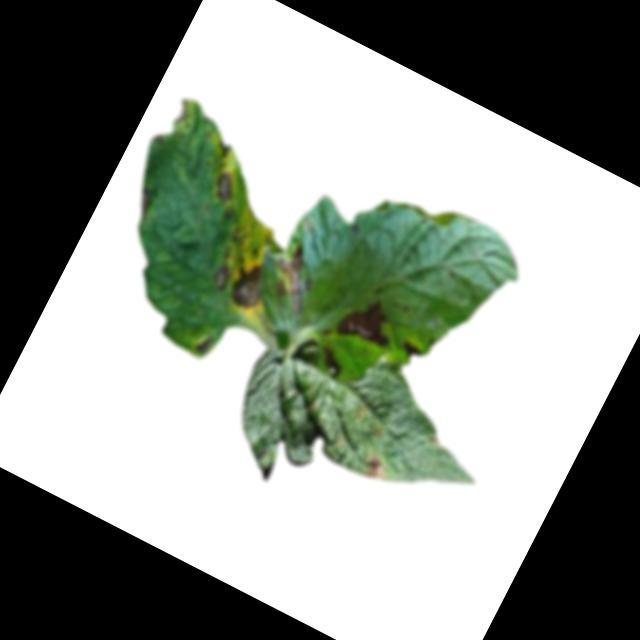Early_blight: (259, 243, 325, 318), (332, 290, 402, 356), (220, 254, 274, 315), (203, 256, 237, 295), (207, 168, 240, 205), (313, 345, 347, 378), (360, 449, 392, 484), (129, 186, 159, 220), (165, 98, 193, 134), (189, 330, 216, 359), (397, 340, 424, 366), (210, 140, 231, 162)
